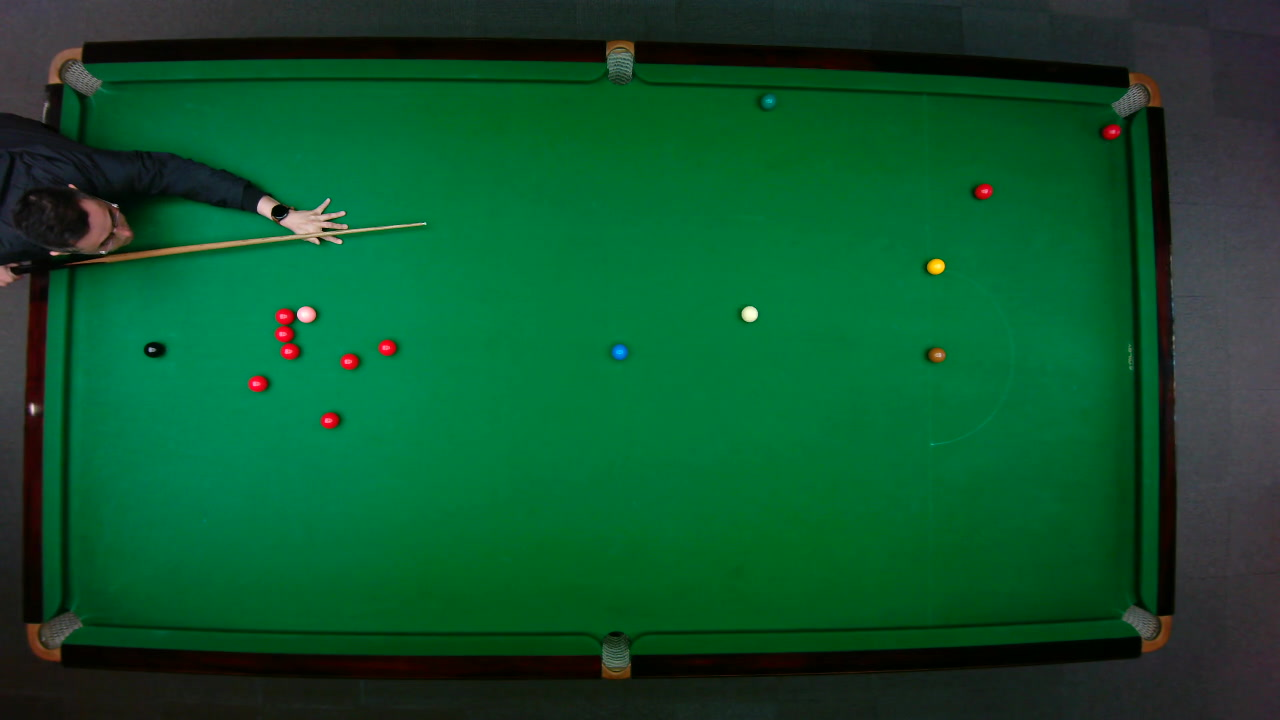bag: (25, 609, 83, 662), (46, 46, 102, 96), (1119, 603, 1171, 652), (1108, 71, 1161, 117), (600, 629, 630, 680), (605, 38, 633, 85)
black: (142, 340, 164, 358)
blue: (610, 342, 628, 360)
brown: (926, 346, 946, 362)
cue: (7, 219, 430, 278)
green: (759, 92, 776, 110)
pink: (294, 304, 317, 323)
red: (318, 410, 340, 429), (246, 374, 269, 392), (278, 342, 300, 360), (1100, 122, 1122, 140), (273, 306, 294, 324), (339, 352, 359, 370), (377, 338, 397, 356), (273, 325, 294, 342), (973, 182, 993, 199)
white: (739, 304, 759, 322)
yellow: (925, 257, 945, 274)
zone: (927, 267, 1013, 445)
